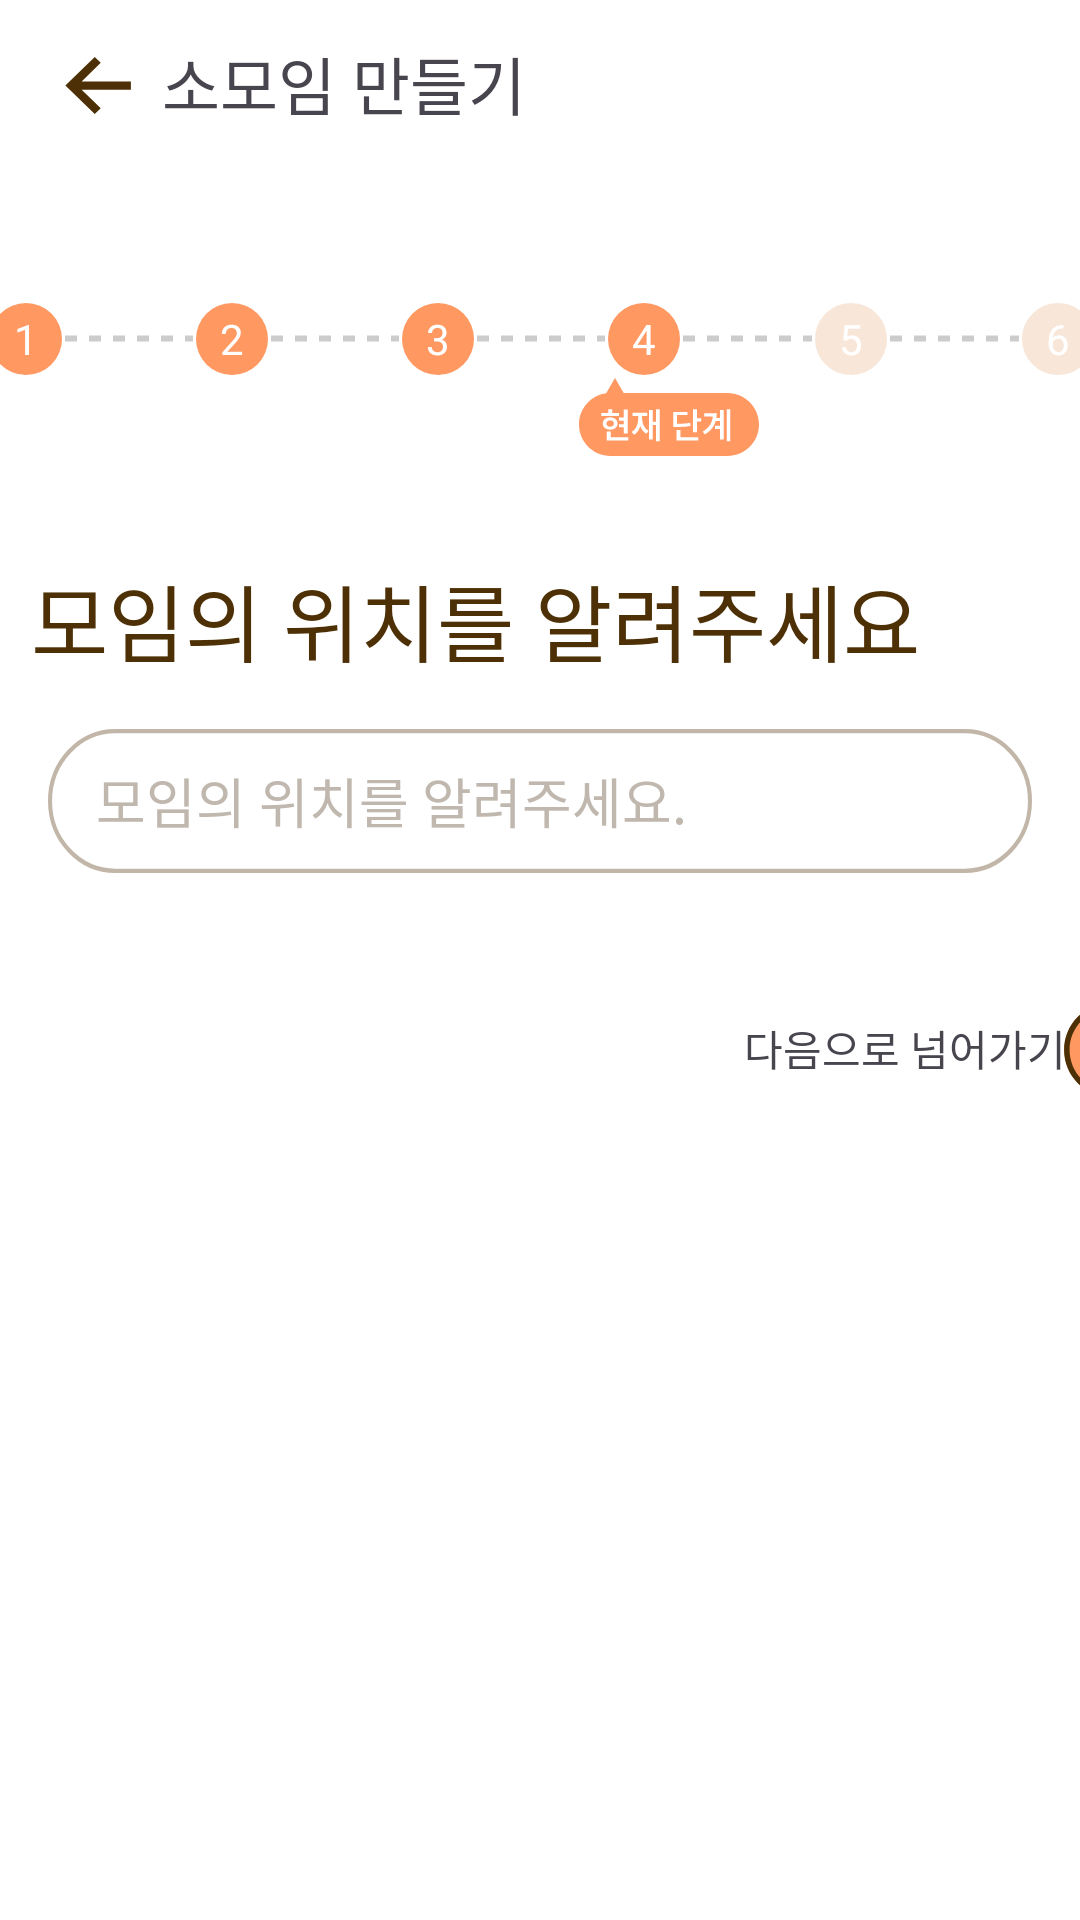

Screen size 1080 × 1920. Icon name, then its box in pixels as (x1, y1, x2, y2):
meeting backbutton: (65, 57, 131, 114)
